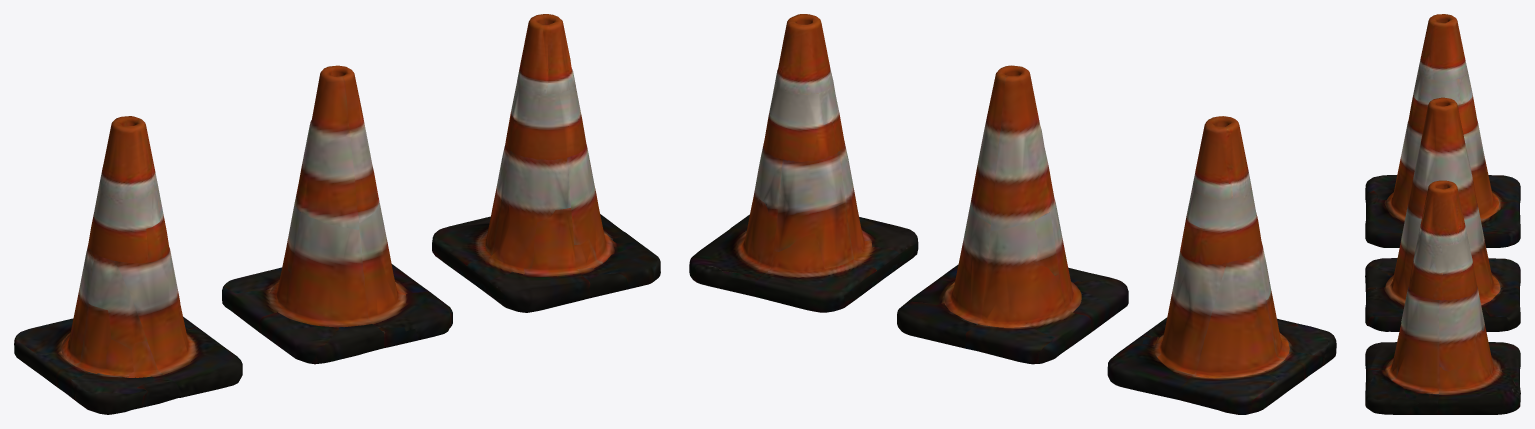
The model's file is veh-j-cones.glb.
The picture shows the model from 3 angles, left to right: view 1: azimuth 30°, elevation 25°; view 2: azimuth 150°, elevation 25°; view 3: azimuth 270°, elevation 25°; orthographic projection. The views are drawn at different scales.
Parts seen in each view (by area): view 1: tripo_node_4b105452-b2df-4117-9eb7-693ebada314e; view 2: tripo_node_4b105452-b2df-4117-9eb7-693ebada314e; view 3: tripo_node_4b105452-b2df-4117-9eb7-693ebada314e.
Boxes of the visible parts, x1=… form: tripo_node_4b105452-b2df-4117-9eb7-693ebada314e: x1=14, y1=14, x2=660, y2=414; tripo_node_4b105452-b2df-4117-9eb7-693ebada314e: x1=689, y1=14, x2=1336, y2=414; tripo_node_4b105452-b2df-4117-9eb7-693ebada314e: x1=1365, y1=14, x2=1520, y2=414.
Size of the model in its own units: 0.978 by 0.399 by 0.2814.
1 material, 1 textured.
